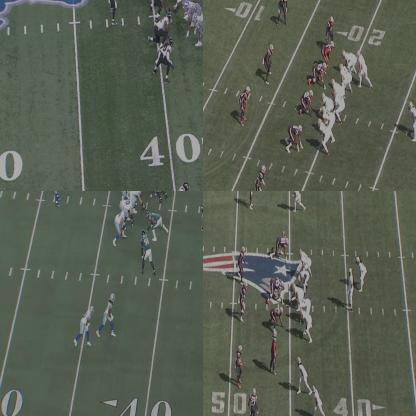CENTER: (286, 282, 299, 308), (321, 92, 334, 113), (133, 191, 146, 206), (174, 0, 189, 9)
DB: (276, 0, 289, 23), (250, 387, 260, 415), (326, 17, 335, 42), (172, 178, 190, 190), (248, 191, 257, 207)
LB: (158, 38, 173, 90), (140, 229, 153, 273), (239, 281, 250, 321), (262, 46, 274, 80), (240, 88, 251, 124), (236, 342, 245, 386), (270, 328, 278, 374), (236, 249, 247, 281), (257, 162, 268, 190), (109, 0, 121, 25), (323, 43, 335, 61)
QB: (332, 87, 342, 123), (348, 270, 356, 312), (119, 191, 131, 199)
SKILL: (76, 308, 92, 346), (102, 296, 115, 336), (357, 53, 370, 92), (298, 357, 310, 397), (312, 387, 326, 415), (355, 256, 365, 291), (343, 48, 356, 71), (408, 99, 415, 141), (291, 191, 305, 212), (54, 191, 65, 204)
